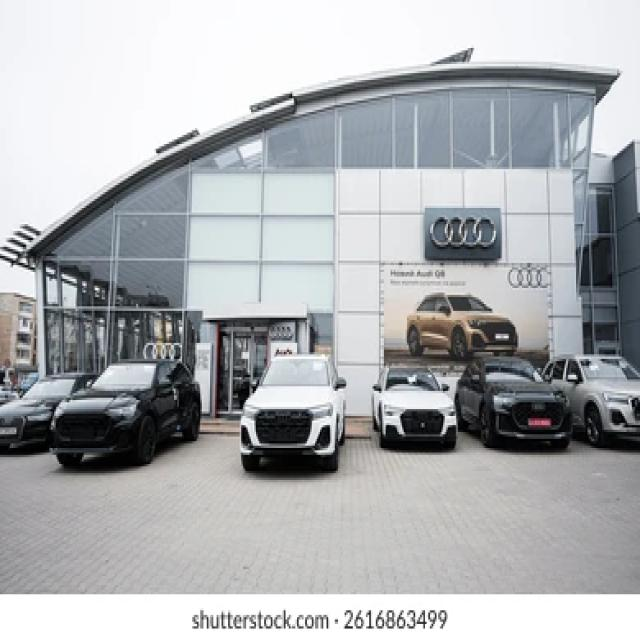audi: (428, 210, 504, 252), (140, 334, 184, 364), (504, 264, 550, 290), (265, 322, 297, 341)
